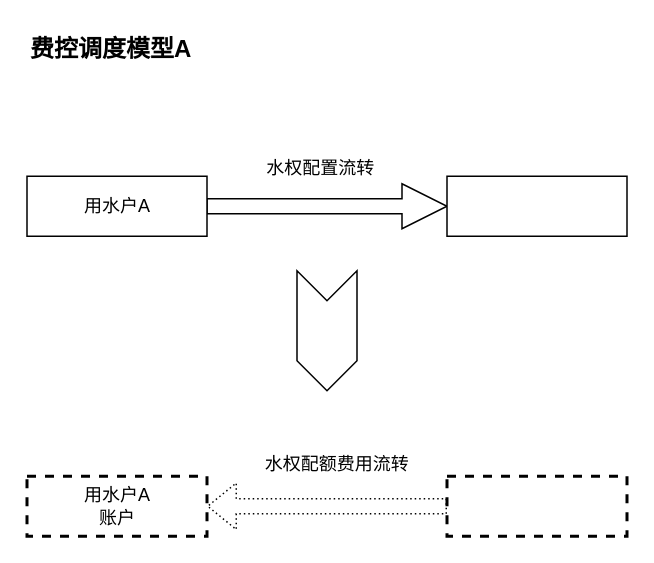
This 654x563 diagram has some shape labels left out. The box of each missing label's shape, as (x1, y1, x2, y2) in pixels:
用水户B: (446, 175, 627, 236)
用水户B 账户: (445, 474, 628, 537)
